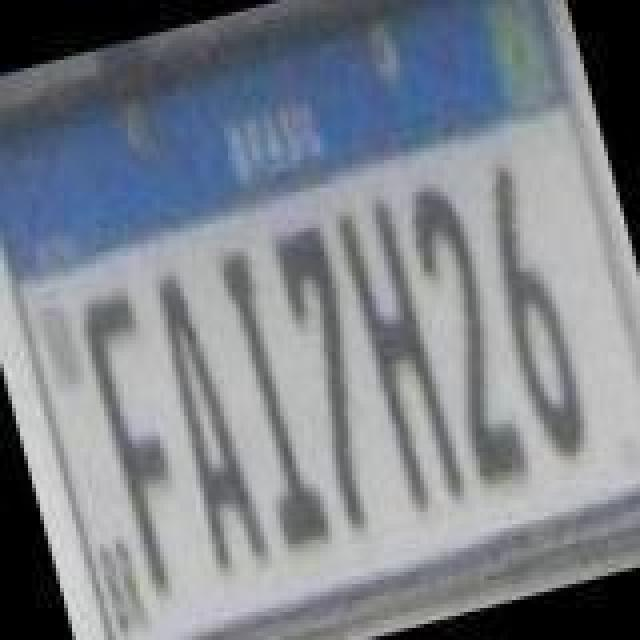2: (396, 180, 532, 492)
6: (462, 156, 594, 468)
7: (268, 218, 404, 534)
A: (138, 260, 278, 580)
F: (72, 282, 208, 598)
H: (332, 200, 468, 512)
I: (206, 240, 338, 552)
